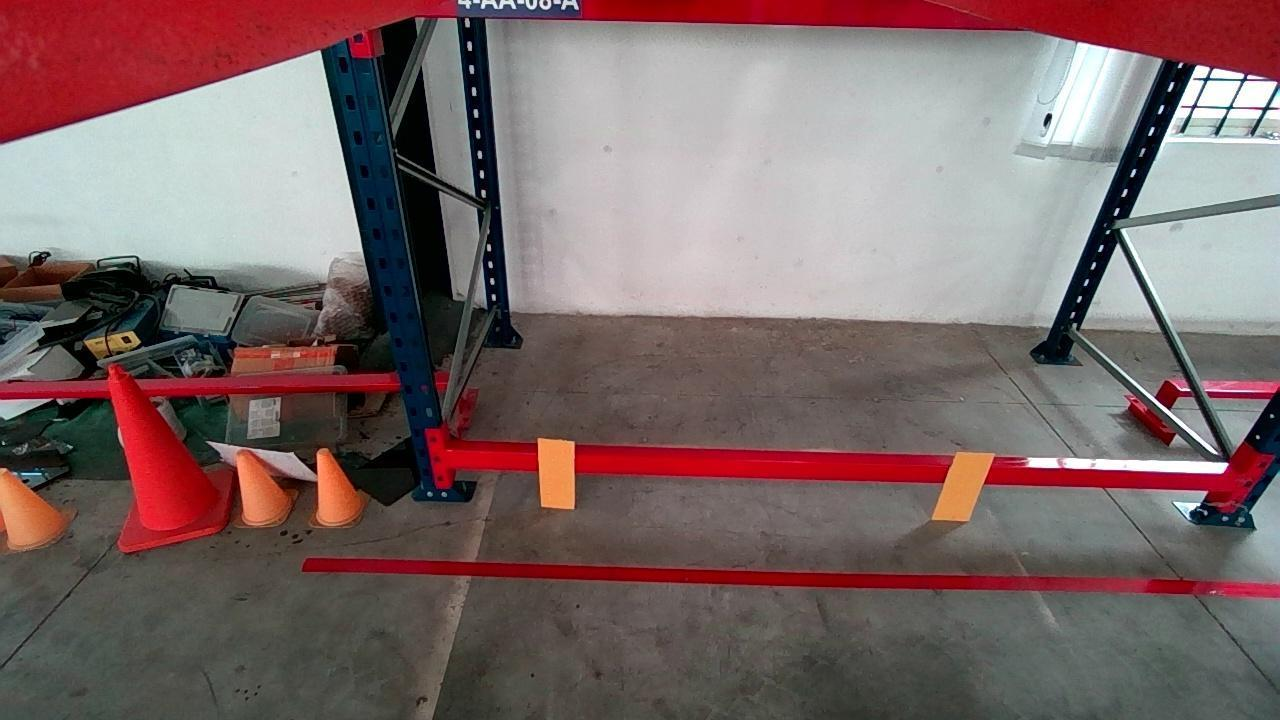h_rack: (444, 449, 1249, 489)
orange_strip: (935, 451, 994, 519), (538, 440, 576, 509)
red_line: (297, 554, 1280, 597)
